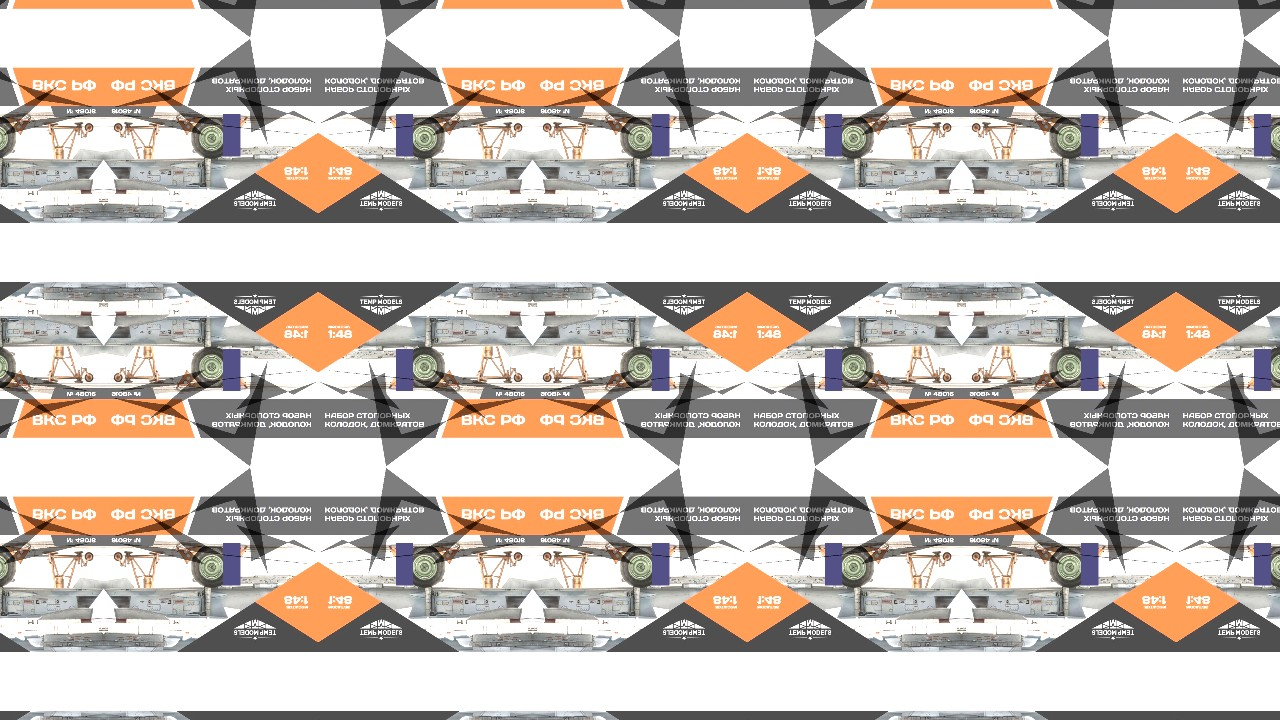chock: (4, 116, 30, 135), (176, 116, 202, 135), (434, 116, 460, 135), (605, 116, 631, 135), (863, 116, 889, 135), (1035, 116, 1061, 135), (4, 370, 30, 389), (176, 370, 202, 389), (434, 370, 460, 389), (605, 370, 631, 389), (863, 370, 889, 389), (1035, 370, 1061, 389), (388, 117, 414, 135), (388, 370, 414, 388), (4, 546, 30, 564), (176, 546, 202, 564), (434, 546, 460, 564), (388, 547, 414, 565), (605, 546, 631, 564), (863, 546, 889, 564), (1035, 546, 1061, 564), (222, 117, 247, 135), (652, 117, 677, 135), (818, 117, 843, 135), (1081, 117, 1106, 135), (1247, 117, 1272, 135), (222, 370, 247, 388), (652, 370, 677, 388), (818, 370, 843, 388), (1081, 370, 1106, 388), (1247, 370, 1272, 388), (222, 547, 247, 565), (652, 547, 677, 565), (818, 547, 843, 565), (1081, 547, 1106, 565), (1247, 547, 1272, 565)
wheel: (403, 119, 445, 160), (620, 119, 662, 160), (833, 119, 875, 160), (1049, 119, 1091, 160), (403, 345, 445, 386), (620, 345, 662, 386), (833, 345, 875, 386), (1049, 345, 1091, 386), (403, 548, 445, 589), (620, 548, 662, 589), (833, 548, 875, 589), (1049, 548, 1091, 589), (191, 119, 232, 160), (191, 345, 232, 386), (191, 548, 232, 589), (1262, 119, 1280, 160), (1262, 345, 1280, 386), (1262, 548, 1280, 589), (0, 119, 16, 160), (0, 345, 16, 386), (0, 548, 16, 589), (113, 123, 123, 133), (942, 123, 952, 133), (972, 123, 982, 133), (113, 372, 123, 382), (942, 372, 952, 382), (972, 372, 982, 382), (83, 123, 92, 133), (513, 123, 522, 133), (543, 123, 552, 133), (83, 372, 92, 382), (513, 372, 522, 382), (543, 372, 552, 382), (113, 553, 123, 562), (942, 553, 952, 562), (972, 553, 982, 562), (83, 553, 92, 562), (513, 553, 522, 562), (543, 553, 552, 562)
